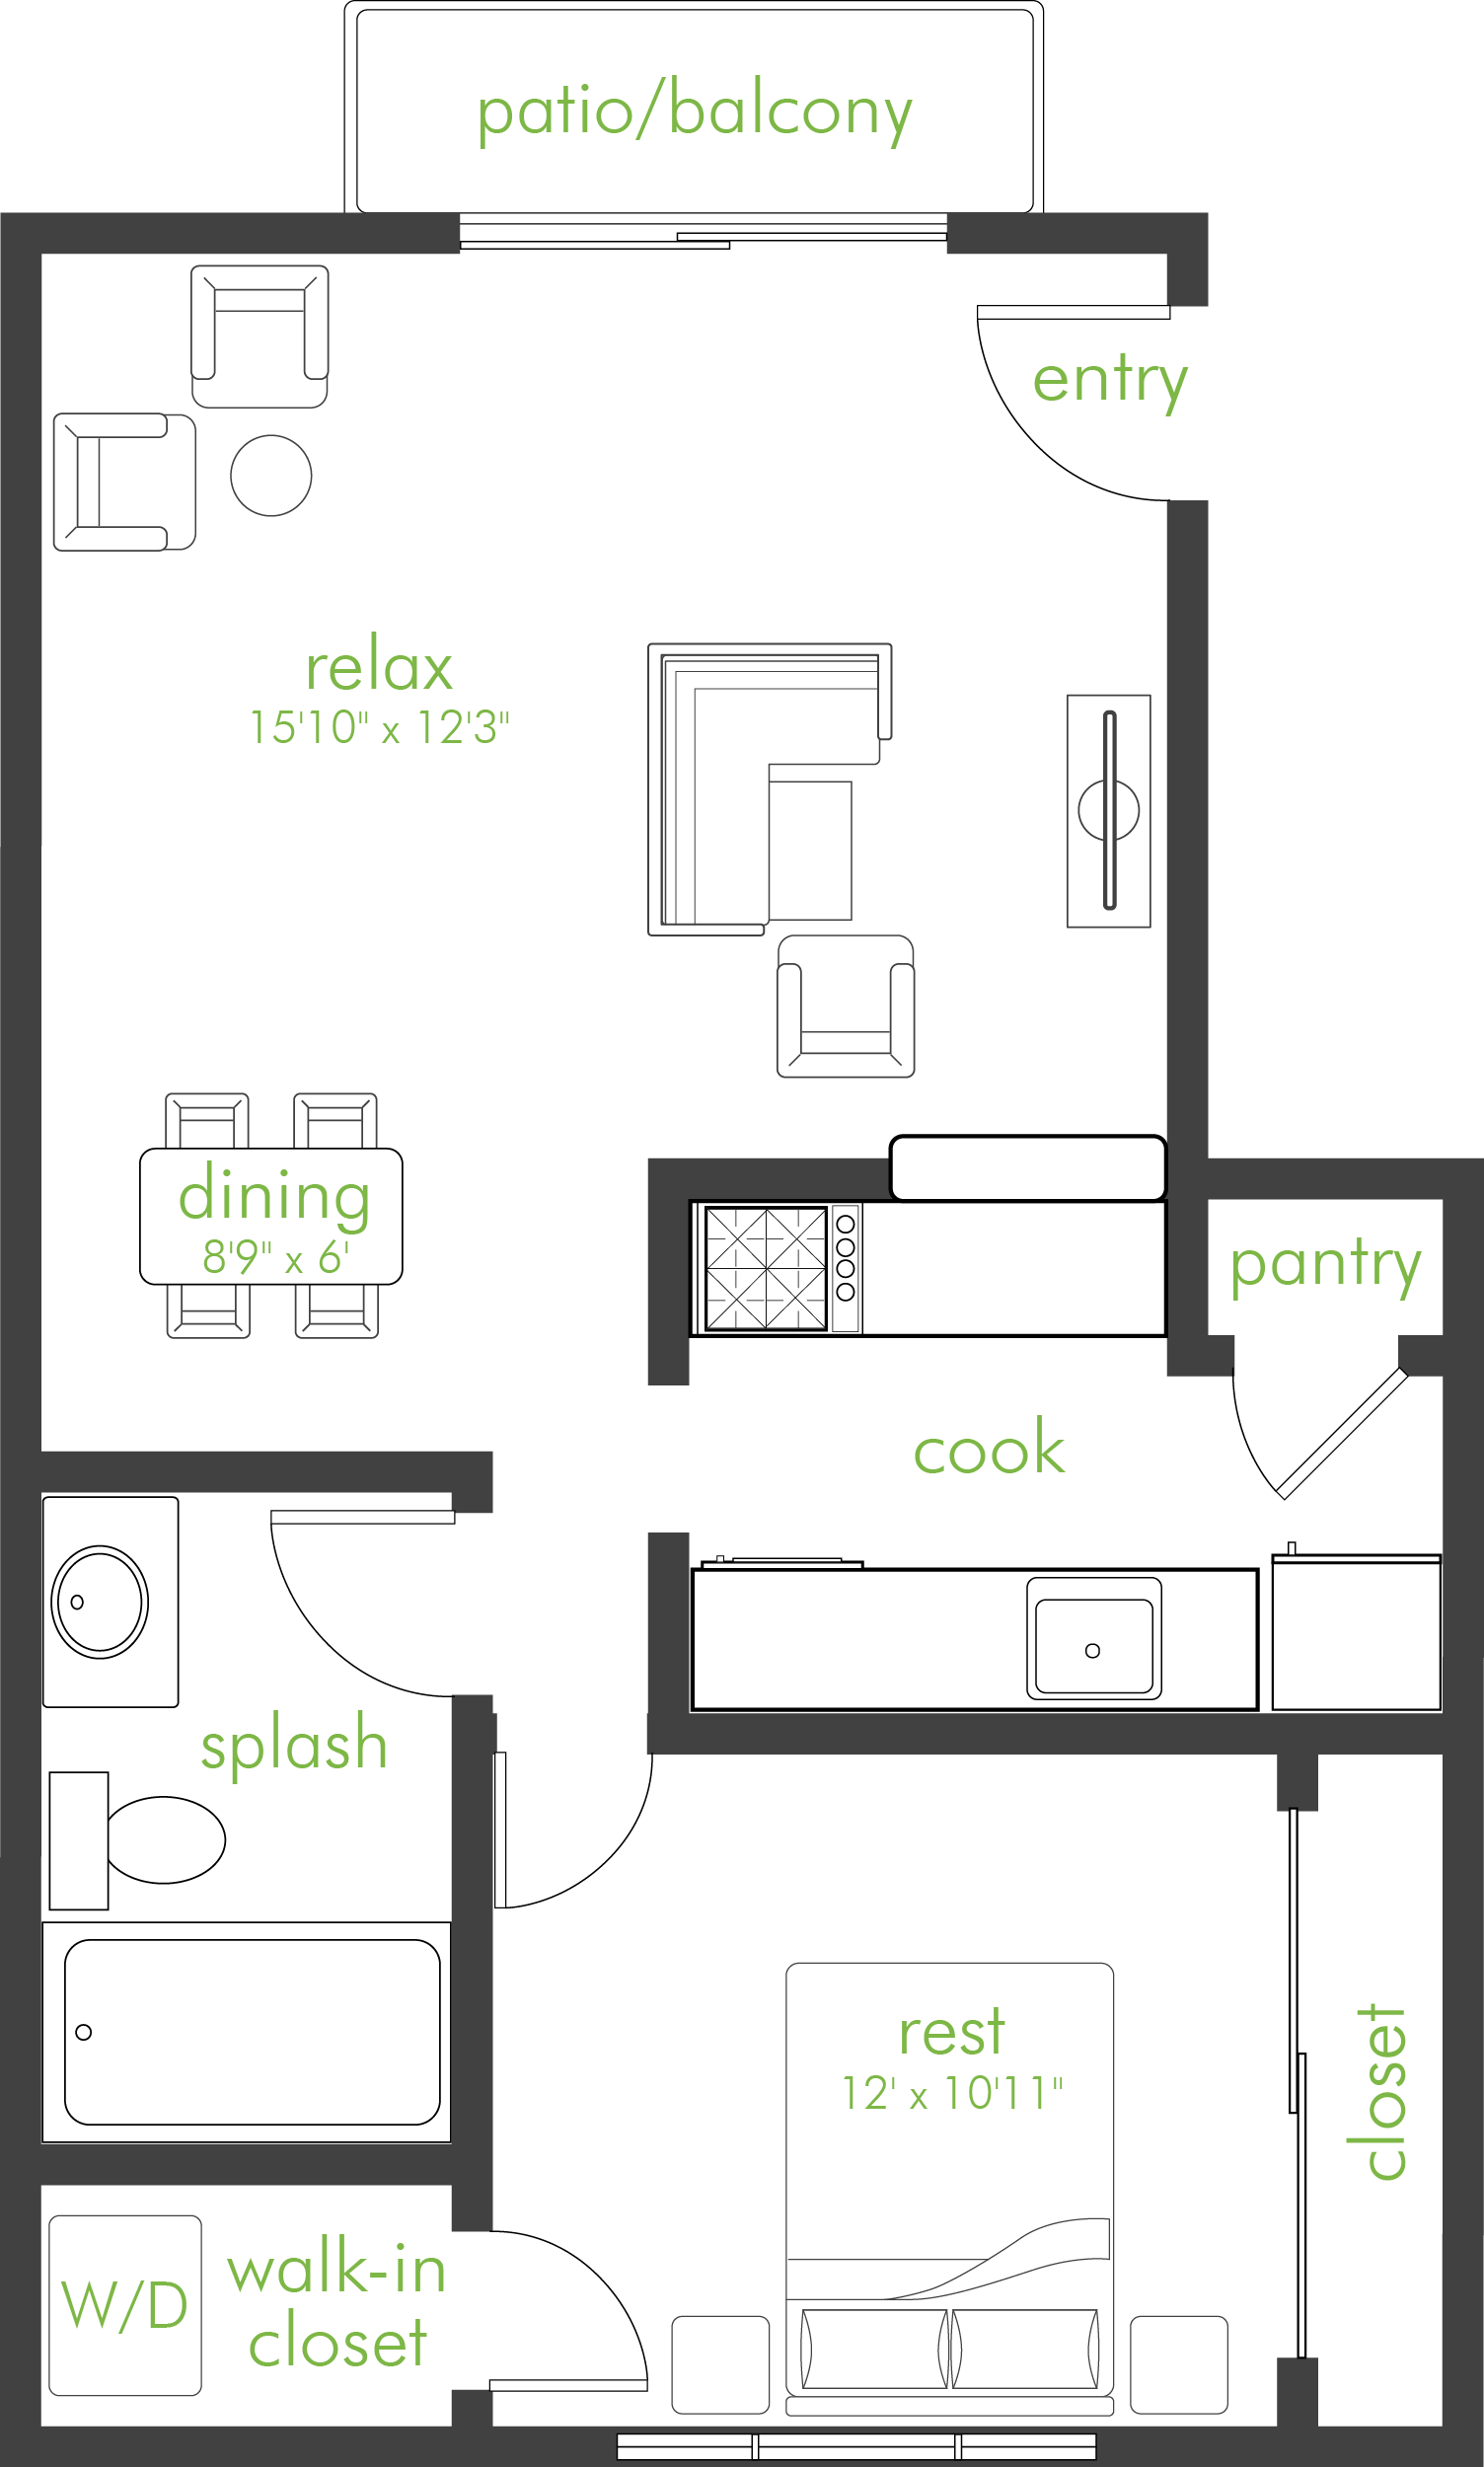window: (448, 199, 955, 261), (606, 2426, 1105, 2467)
